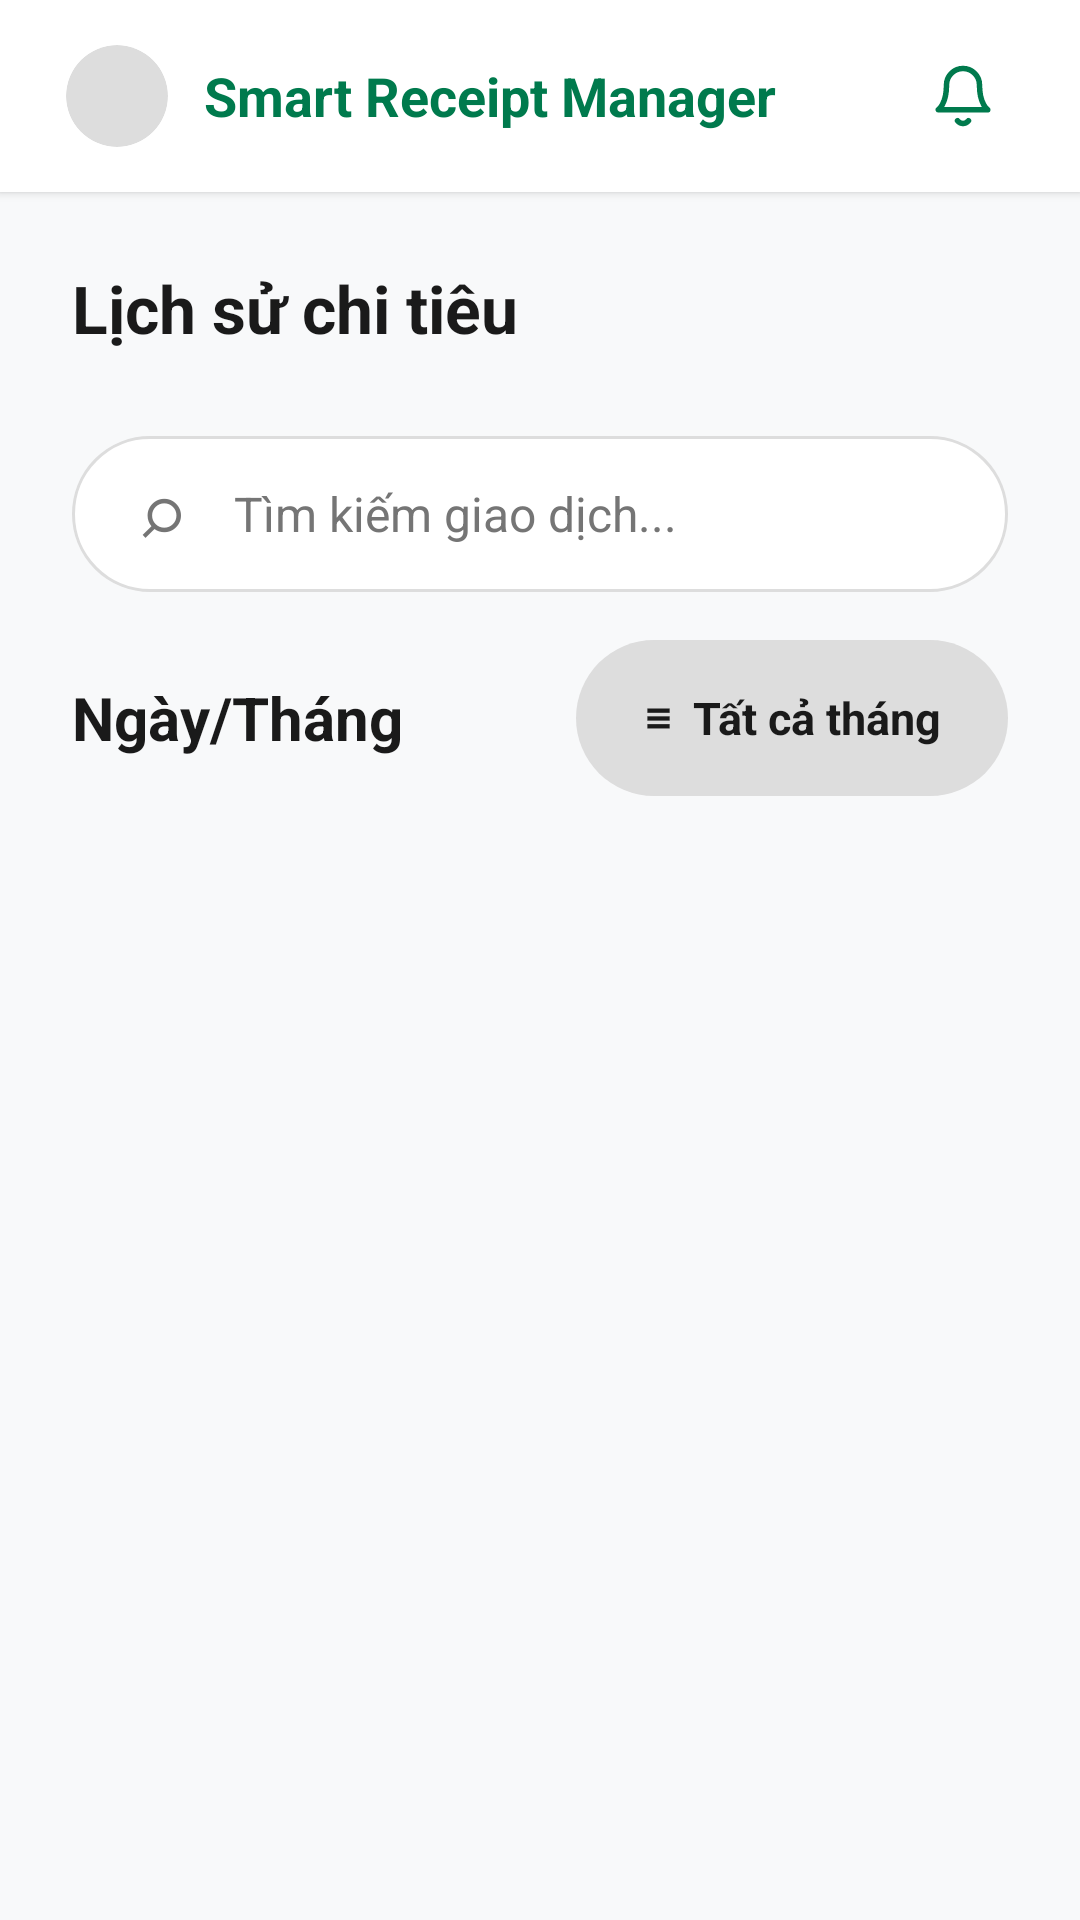

Where icons sit on this 1080*1920 app screen, as box=[x1, y1, x2, y2]:
Thông báo: box=[935, 65, 991, 127]
